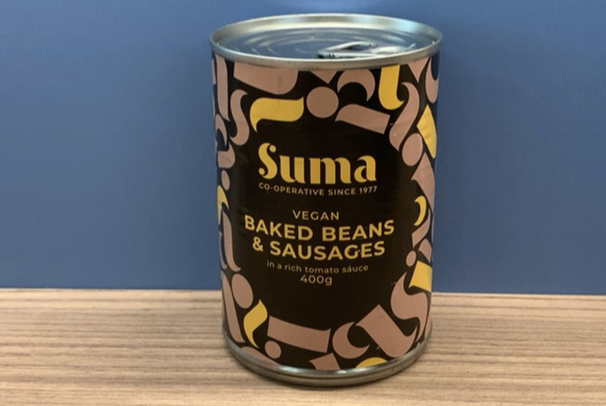Baked beans_450g: (227, 103, 418, 350)
